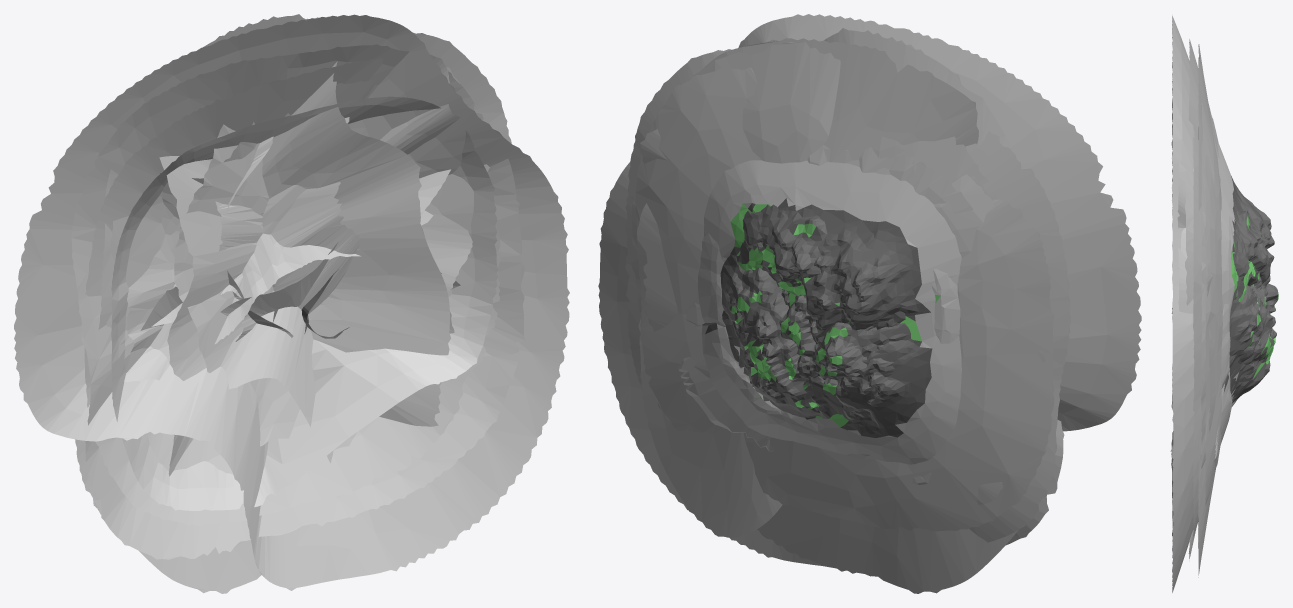
Rendered from Islands 2 LOD 1.fbx.
3 views of the same model, side by side, from view 1: azimuth 30°, elevation 25°; view 2: azimuth 150°, elevation 25°; view 3: azimuth 270°, elevation 25° (orthographic). The views are drawn at different scales.
Visible parts, largest first — view 1: Island (LOD 1) 14, Island (LOD 1) 10, Island (LOD 1) 07, Island (LOD 1) 16, Island (LOD 1) 11, Island (LOD 1) 02, Island (LOD 1) 21, Island (LOD 1) 13, Island (LOD 1) 09, Island (LOD 1) 19, Island (LOD 1) 18, Island (LOD 1) 17 (+5 smaller); view 2: Island (LOD 1) 20, Island (LOD 1) 12, Island (LOD 1) 14, Island (LOD 1) 02, Island (LOD 1) 07, Island (LOD 1) 17, Island (LOD 1) 21, Island (LOD 1) 08, Island (LOD 1) 05, Island (LOD 1) 04, Island (LOD 1) 15, Island (LOD 1) 19 (+5 smaller); view 3: Island (LOD 1) 14, Island (LOD 1) 20, Island (LOD 1) 12, Island (LOD 1) 08, Island (LOD 1) 17, Island (LOD 1) 21, Island (LOD 1) 05, Island (LOD 1) 02, Island (LOD 1) 11, Island (LOD 1) 10, Island (LOD 1) 07, Island (LOD 1) 16 (+2 smaller).
Boxes of the visible parts, x1,y1,x2,y2 form: Island (LOD 1) 14: (14,14,569,590); Island (LOD 1) 10: (71,44,525,559); Island (LOD 1) 07: (98,14,450,593); Island (LOD 1) 16: (111,96,498,510); Island (LOD 1) 11: (84,58,500,525); Island (LOD 1) 02: (159,16,459,463); Island (LOD 1) 21: (174,124,356,450); Island (LOD 1) 13: (106,78,472,471); Island (LOD 1) 09: (271,113,361,314); Island (LOD 1) 19: (126,117,349,352); Island (LOD 1) 18: (150,210,433,362); Island (LOD 1) 17: (75,32,511,541); Island (LOD 1) 20: (634,67,1054,531); Island (LOD 1) 12: (701,160,961,464); Island (LOD 1) 14: (598,14,1141,576); Island (LOD 1) 02: (638,38,978,537); Island (LOD 1) 07: (757,28,1018,593); Island (LOD 1) 17: (625,49,1070,542); Island (LOD 1) 21: (632,42,840,312); Island (LOD 1) 08: (720,254,820,418); Island (LOD 1) 05: (736,159,993,380); Island (LOD 1) 04: (678,145,972,484); Island (LOD 1) 15: (637,203,1003,504); Island (LOD 1) 19: (859,136,998,199); Island (LOD 1) 14: (1171,15,1261,592); Island (LOD 1) 20: (1205,149,1278,506); Island (LOD 1) 12: (1217,141,1274,444); Island (LOD 1) 08: (1229,285,1276,406); Island (LOD 1) 17: (1193,120,1236,537); Island (LOD 1) 21: (1201,92,1221,468); Island (LOD 1) 05: (1216,143,1270,301); Island (LOD 1) 02: (1198,44,1218,577); Island (LOD 1) 11: (1185,165,1266,307); Island (LOD 1) 10: (1177,162,1254,313); Island (LOD 1) 07: (1188,39,1215,558); Island (LOD 1) 16: (1170,228,1230,458).
Bounding box in the file's own units: 446 × 441 × 89.57.
